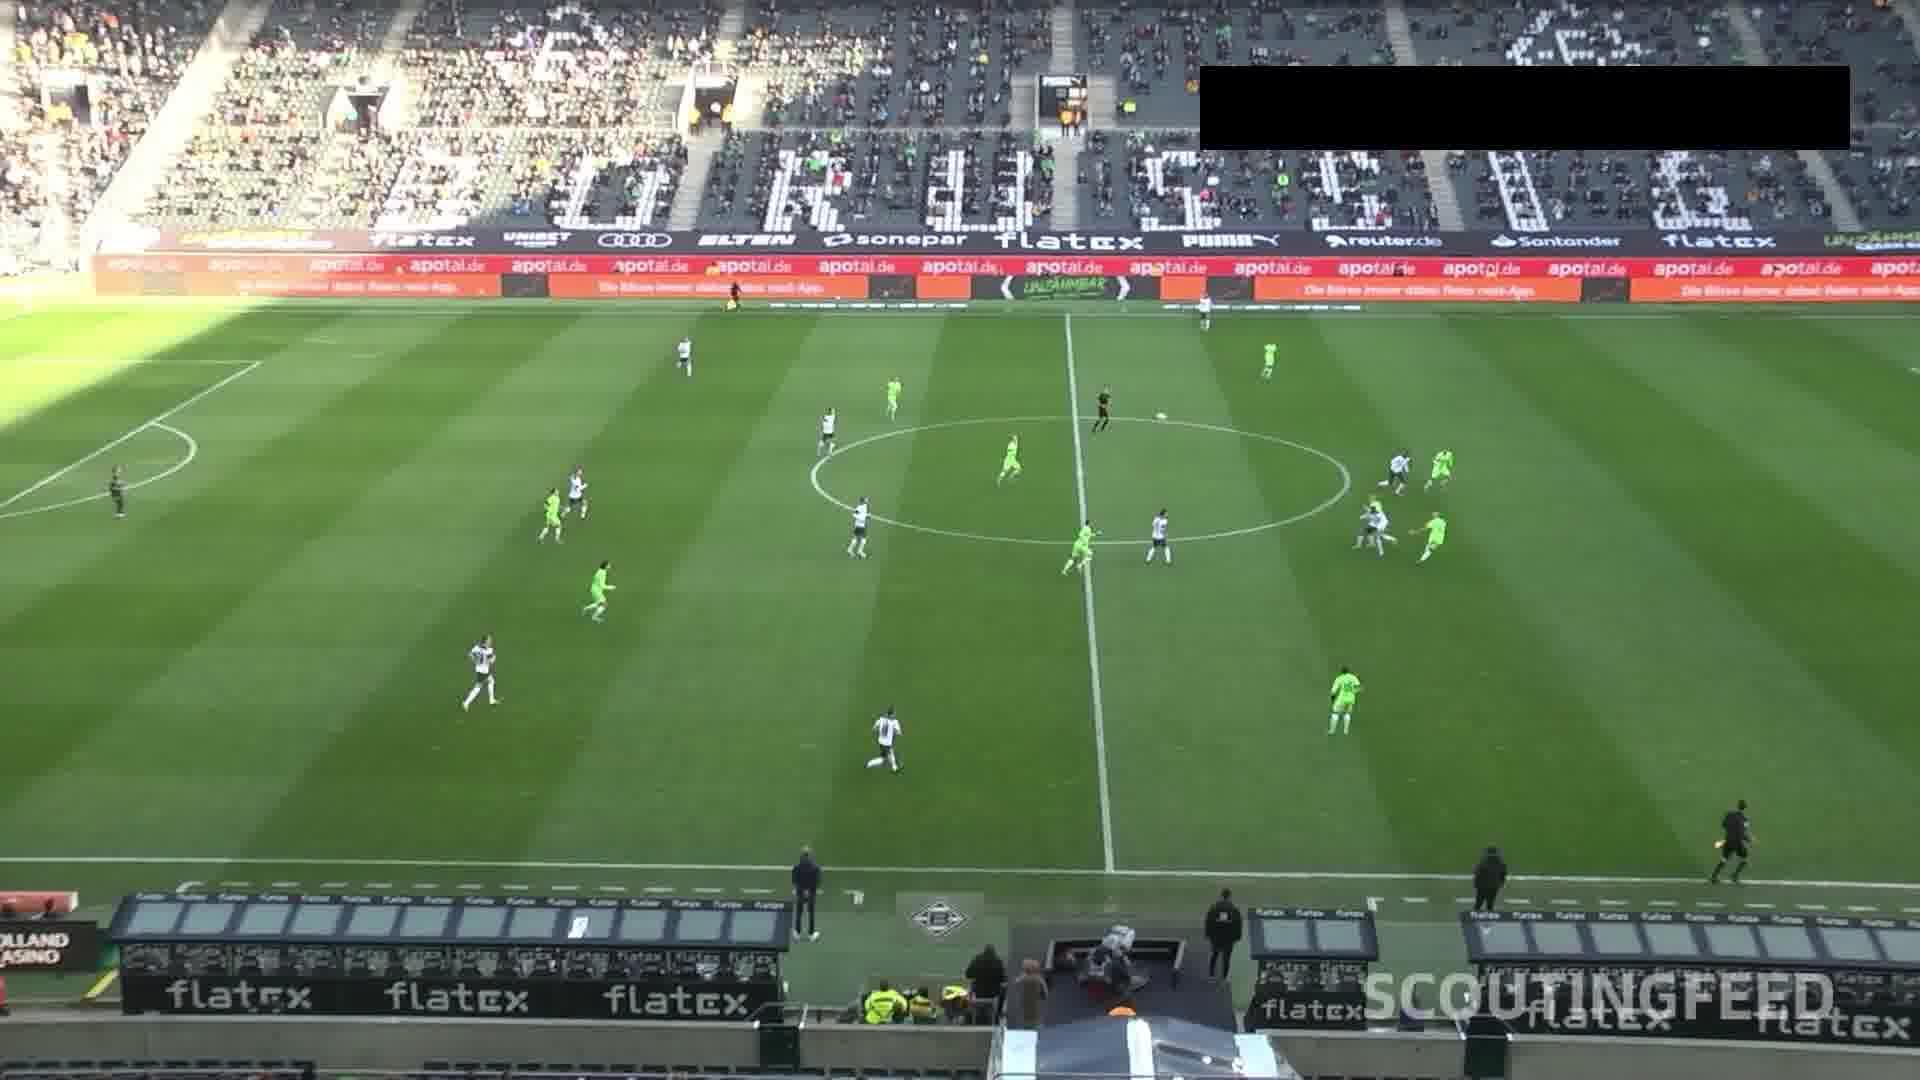football: (1153, 411, 1168, 419)
